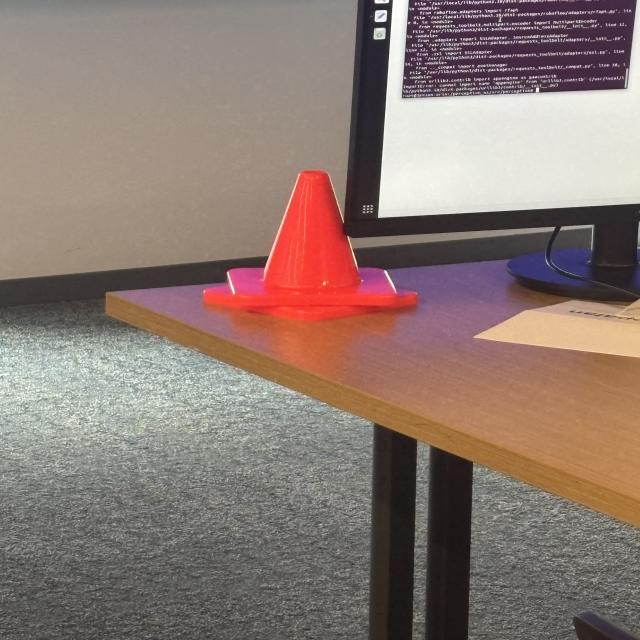Traffic Cone: (200, 163, 425, 327)
